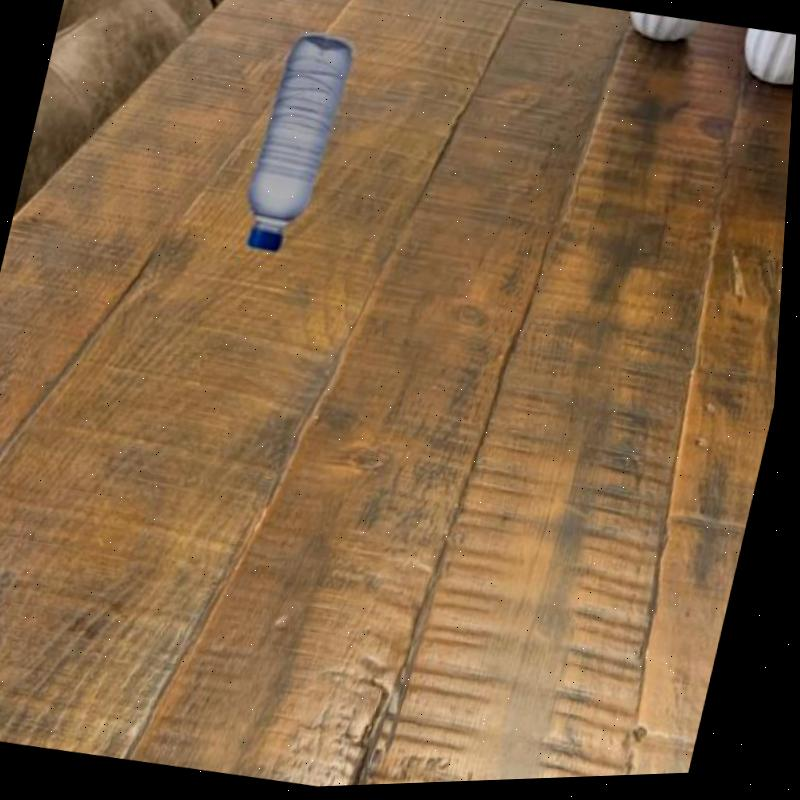botella: (237, 30, 360, 262)
